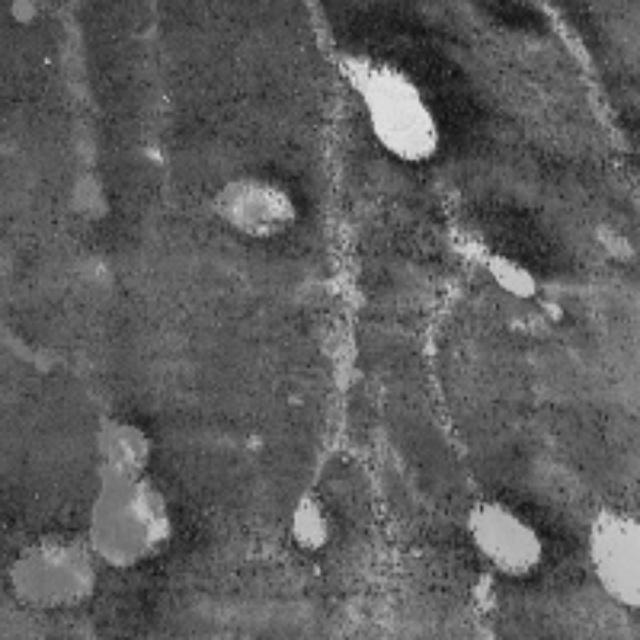Pothole: (330, 21, 463, 180), (80, 424, 162, 560), (454, 212, 556, 306), (213, 172, 312, 244), (582, 504, 640, 610), (14, 534, 92, 610), (460, 497, 532, 569), (280, 488, 340, 555), (590, 212, 640, 272)
